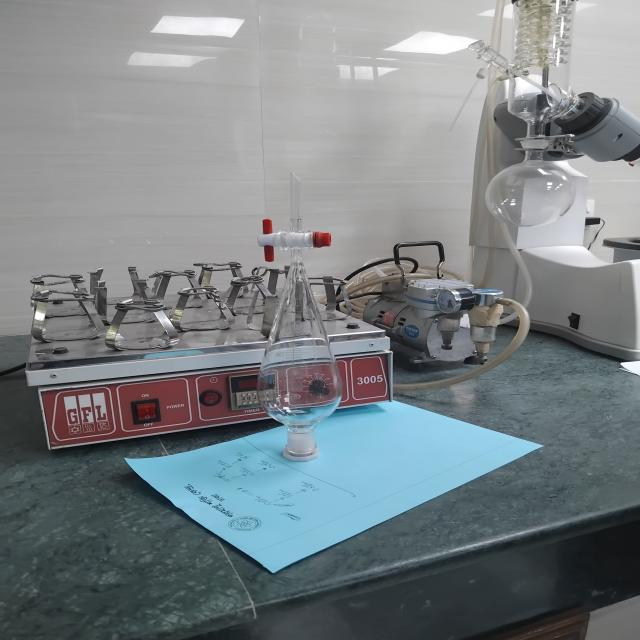Separating_Funnel: (232, 157, 368, 486)
